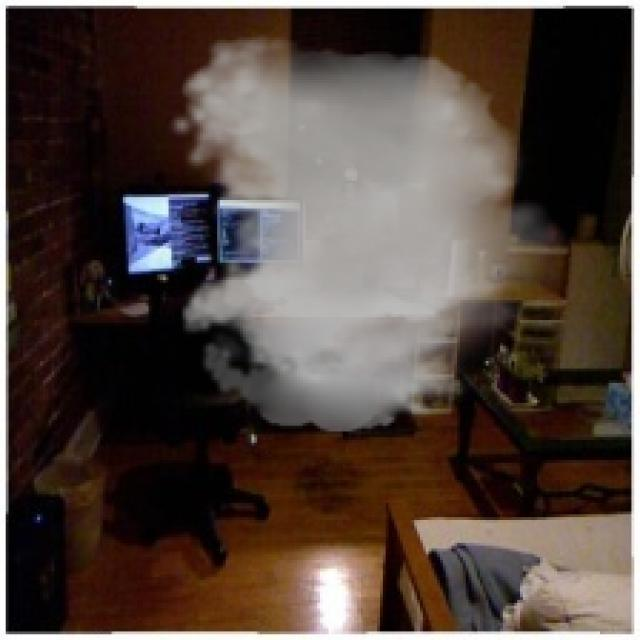Smoke: (168, 34, 574, 432)
